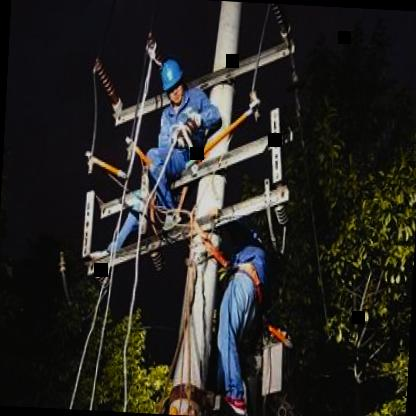helmet: (158, 56, 188, 104)
